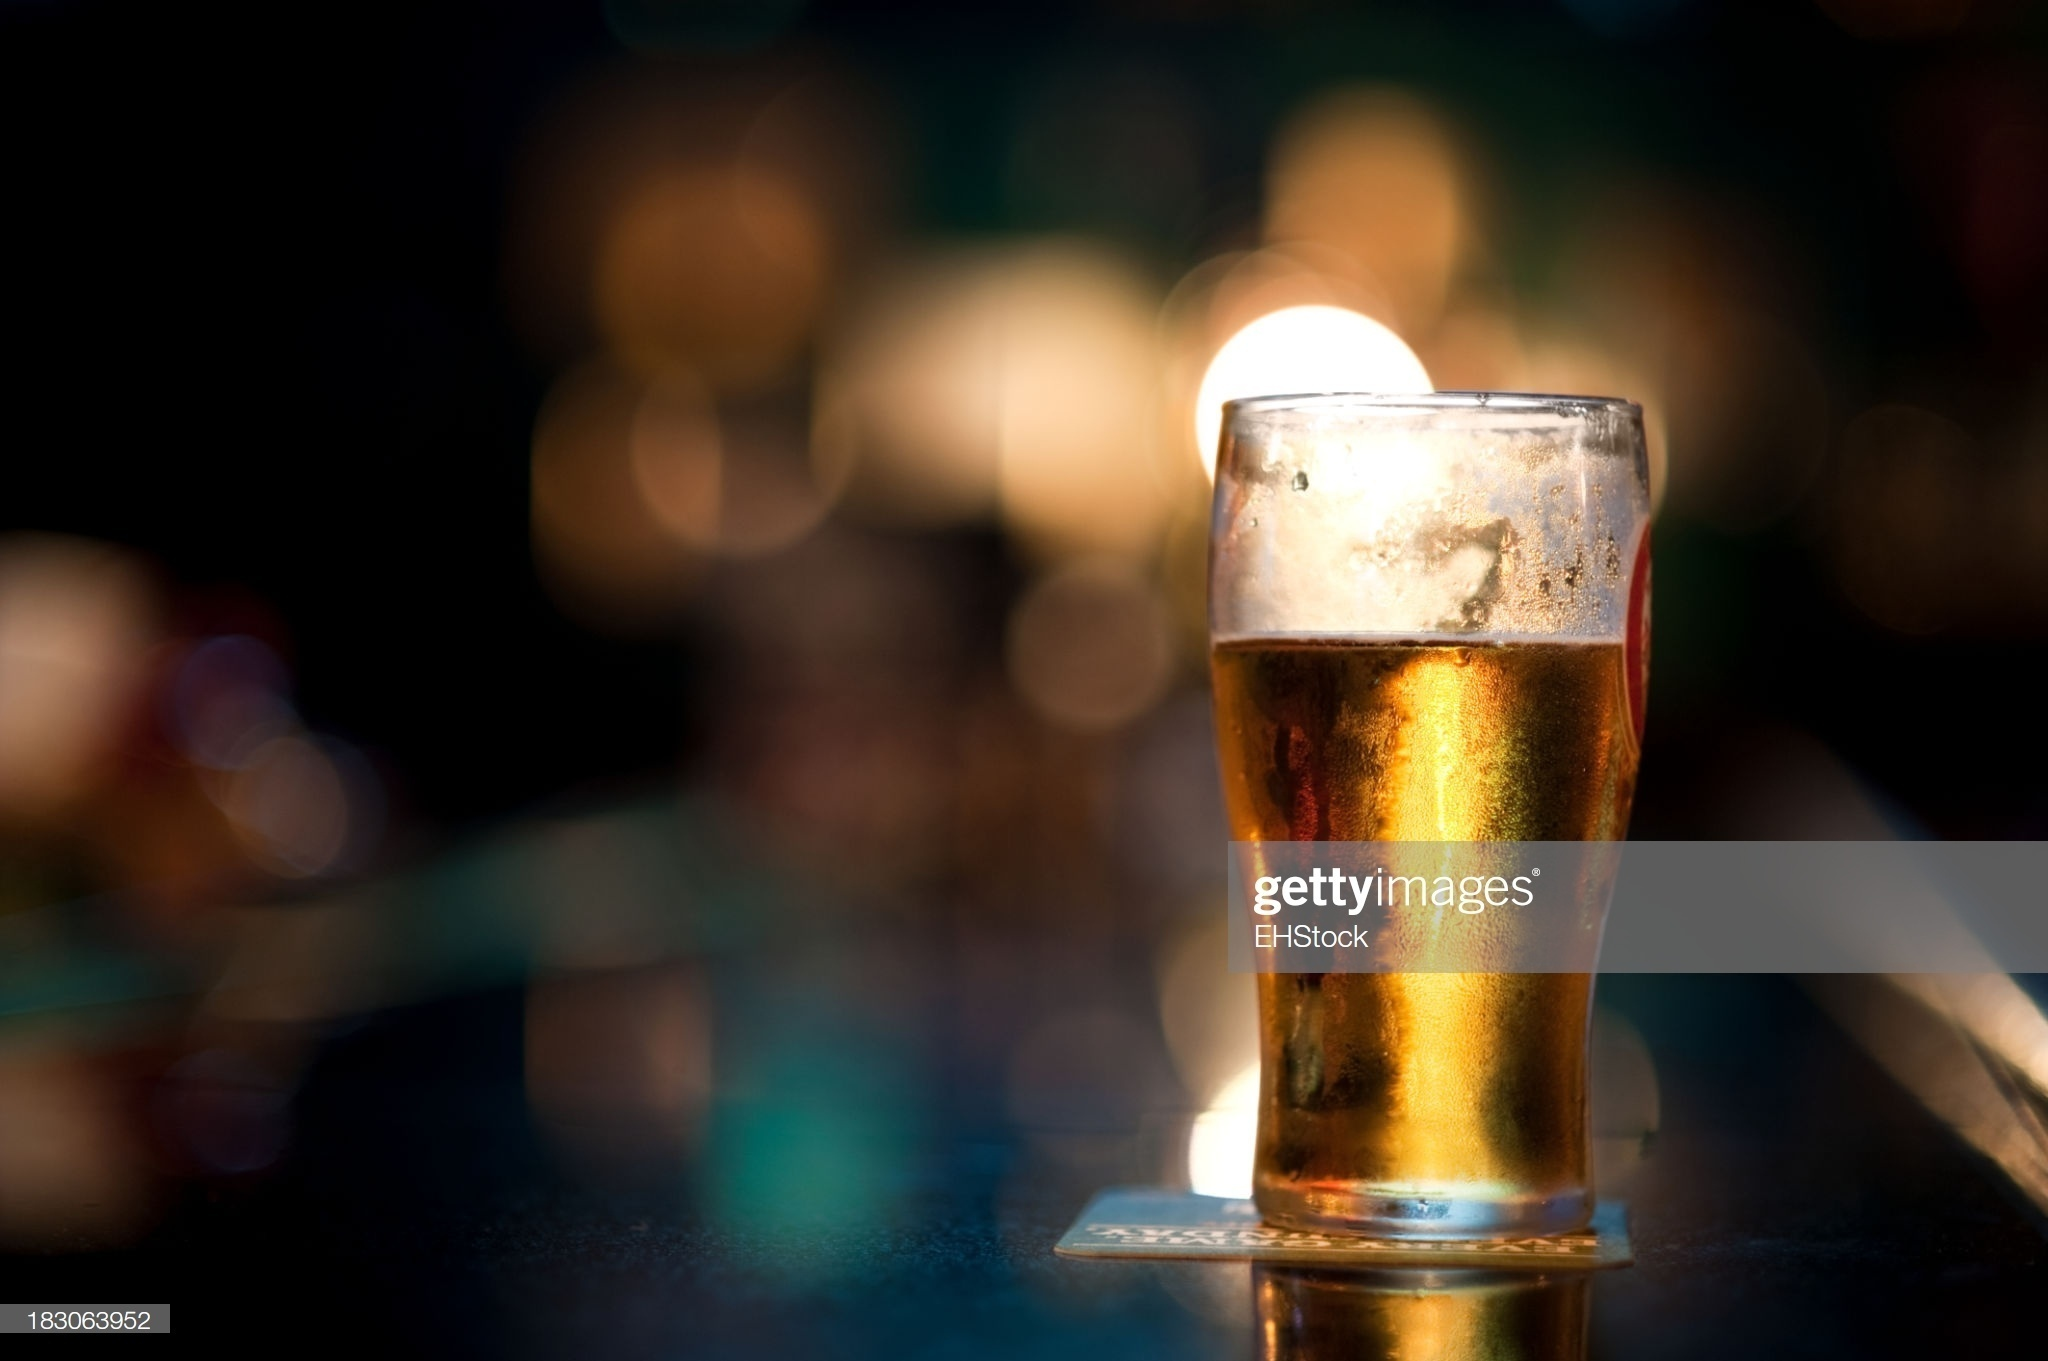whiskey: (1225, 412, 1649, 1246)
